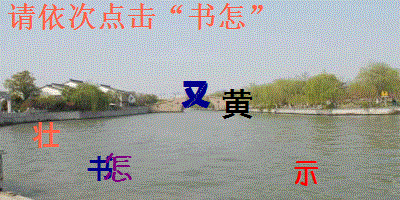result: (189, 1, 249, 31)
text: (220, 87, 255, 120), (179, 77, 211, 111), (104, 150, 134, 184), (30, 120, 62, 150), (292, 157, 321, 189), (87, 153, 114, 183)
